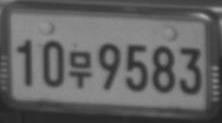0: (41, 40, 65, 86)
1: (14, 39, 39, 87)
3: (179, 48, 201, 95)
5: (125, 44, 148, 91)
8: (152, 45, 175, 92)
9: (98, 42, 120, 90)
무: (68, 51, 92, 88)
